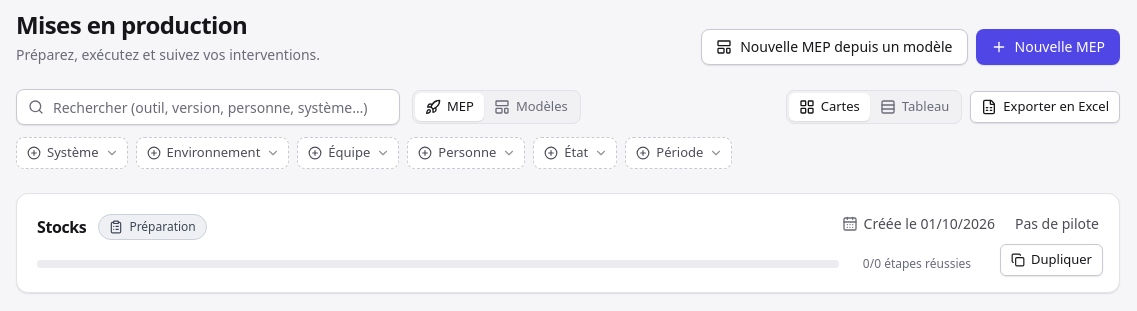
Test: ListeMepPage › retient la présentation choisie à la main
Expected: the link "Stocks" is shown, [37,215,86,239]
Click the radio button labelled "Tableau": click(915, 107) [870,93,959,121]
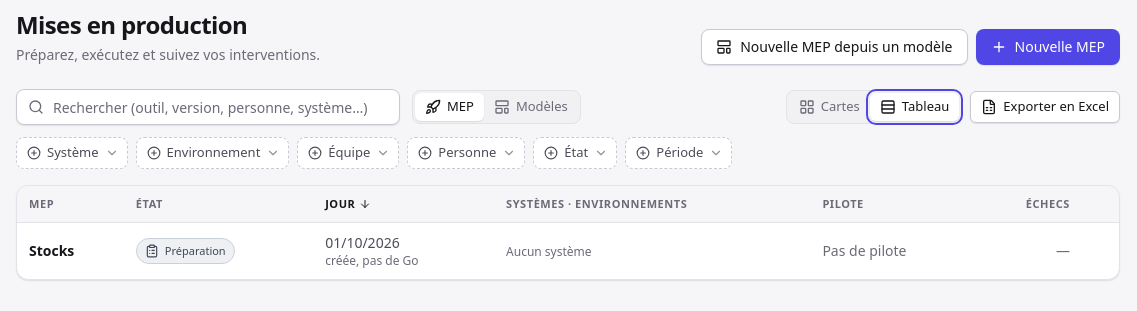
Now the table is shown, box [17,186,1119,279]
